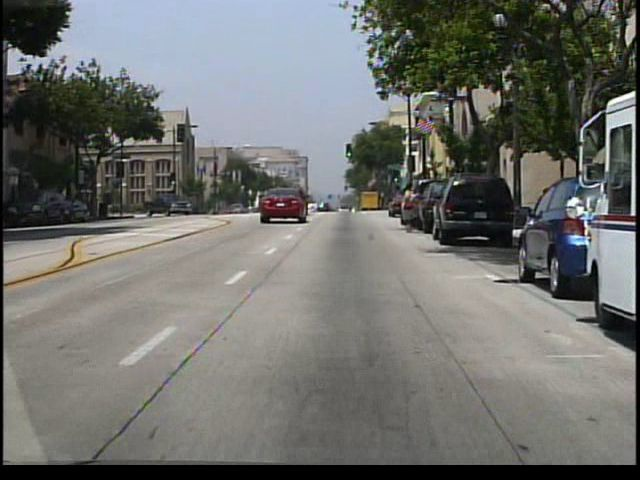person: (397, 181, 424, 234)
